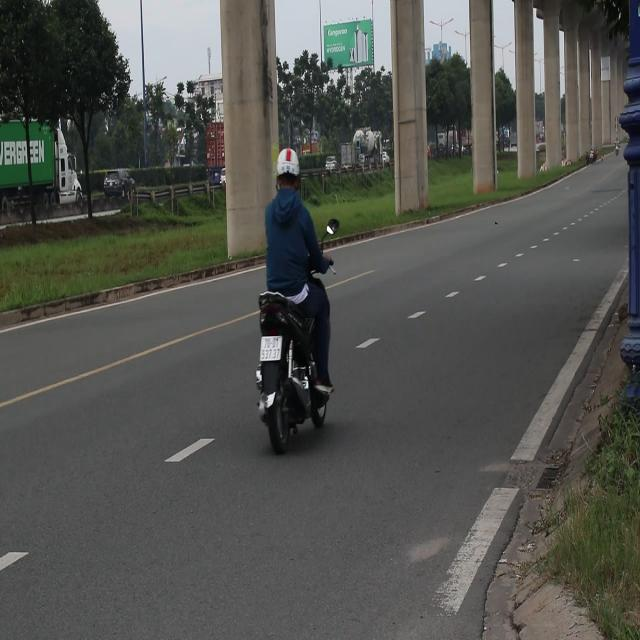car: (104, 173, 136, 200), (210, 167, 227, 189), (326, 148, 337, 172)
motorbike: (254, 292, 333, 456)
truck: (0, 105, 92, 214), (196, 117, 256, 196), (344, 134, 356, 174)
